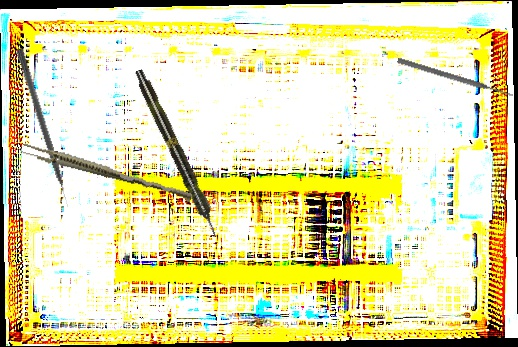Handpiece: (131, 67, 223, 240)
Pusher: (14, 47, 72, 210), (396, 56, 515, 100)
Tissue Forceps: (19, 141, 195, 203)
